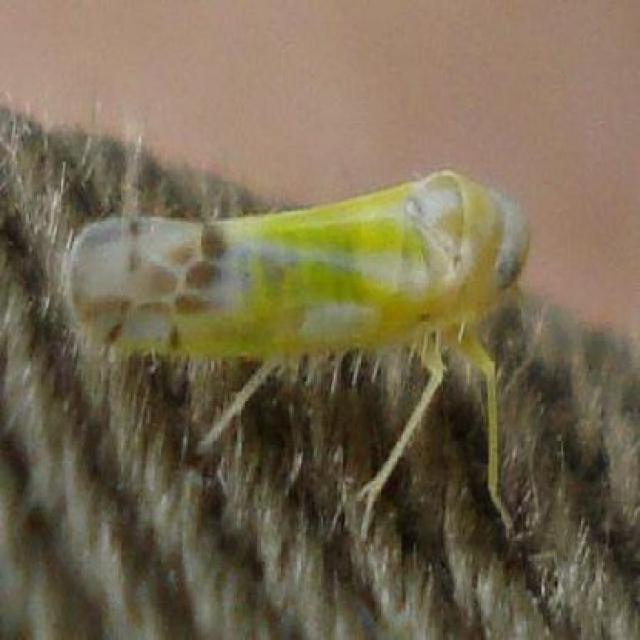green-leafhopper: (72, 183, 532, 388)
